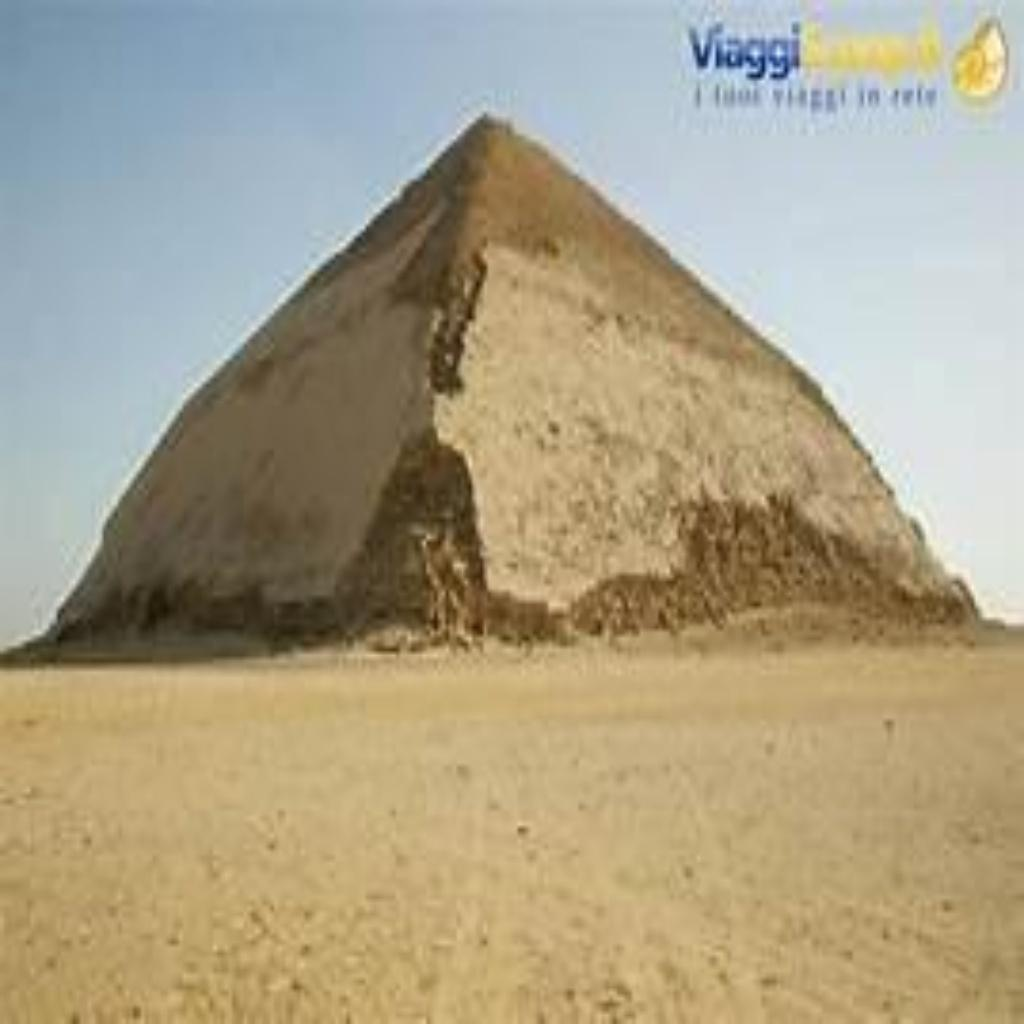Bent Pyramid of King Sneferu: (15, 102, 982, 658)
